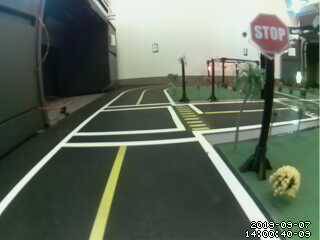Stop_Sign: (247, 7, 297, 59)
